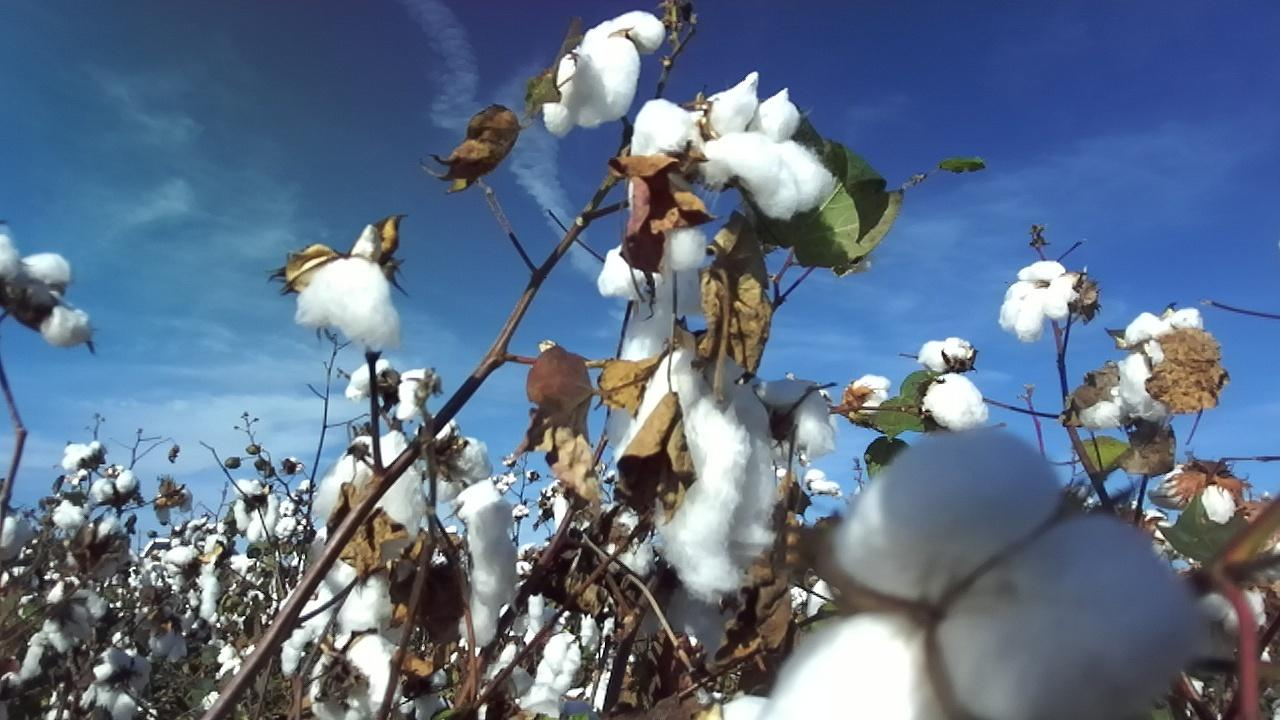cotton_ready: (765, 425, 1205, 720), (623, 347, 774, 609), (627, 75, 830, 215), (599, 227, 709, 447), (281, 557, 394, 720), (545, 10, 666, 136), (296, 222, 395, 353), (317, 430, 427, 546), (0, 233, 95, 345), (1117, 307, 1205, 421), (457, 484, 517, 644), (637, 584, 735, 666), (1177, 561, 1270, 639), (998, 260, 1079, 343), (761, 378, 839, 464), (520, 634, 584, 720), (1149, 467, 1247, 523), (425, 422, 489, 506), (925, 372, 989, 431), (844, 374, 893, 424), (921, 337, 979, 373), (1079, 382, 1126, 425)
